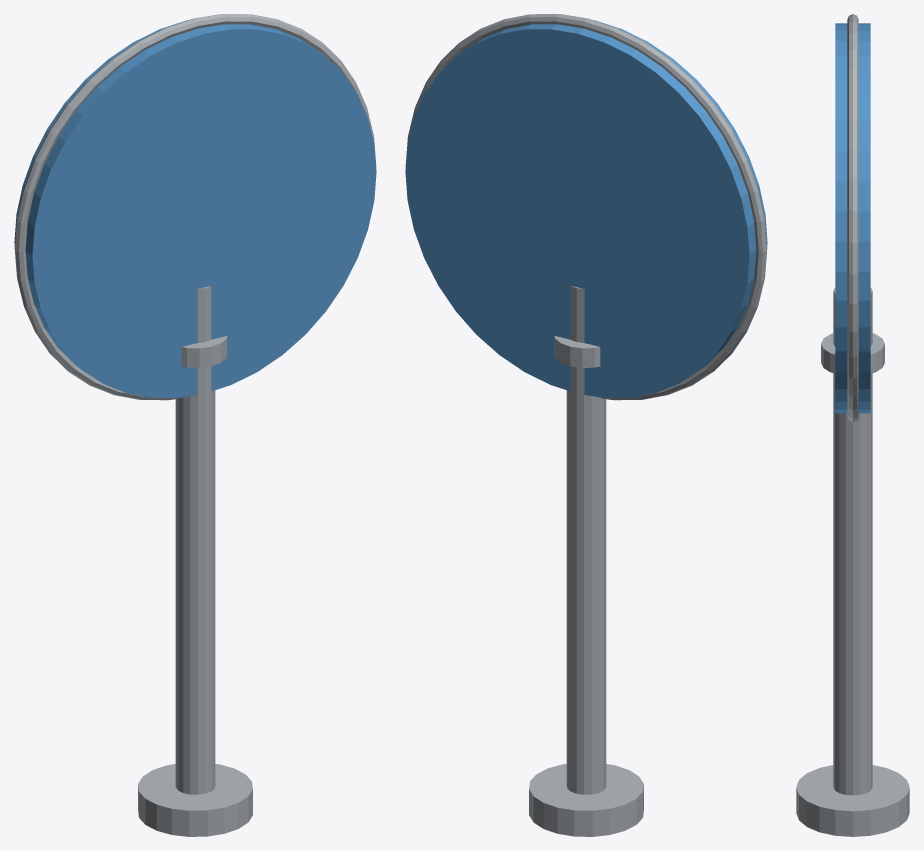
Rendered from state-fair-pin-information-booth.glb.
3 views of the same model, side by side, from view 1: azimuth 30°, elevation 25°; view 2: azimuth 150°, elevation 25°; view 3: azimuth 270°, elevation 25° (orthographic).
Parts seen in each view (by area): view 1: SFPIN_SignDisc, SFPIN_Post, SFPIN_Rim, SFPIN_Base, SFPIN_Collar; view 2: SFPIN_SignDisc, SFPIN_Post, SFPIN_Rim, SFPIN_Base, SFPIN_Collar; view 3: SFPIN_Post, SFPIN_SignDisc, SFPIN_Base, SFPIN_Rim, SFPIN_Collar.
Boxes of the visible parts, x1,y1,x2,y2 form: SFPIN_SignDisc: (14, 20, 376, 397); SFPIN_Post: (175, 286, 215, 794); SFPIN_Rim: (14, 14, 376, 400); SFPIN_Base: (138, 764, 252, 836); SFPIN_Collar: (181, 336, 227, 367); SFPIN_SignDisc: (405, 20, 767, 397); SFPIN_Post: (566, 286, 606, 794); SFPIN_Rim: (405, 14, 767, 400); SFPIN_Base: (529, 764, 643, 836); SFPIN_Collar: (554, 336, 600, 367); SFPIN_Post: (833, 287, 872, 795); SFPIN_SignDisc: (835, 23, 870, 413); SFPIN_Base: (796, 765, 909, 836); SFPIN_Rim: (847, 14, 858, 422); SFPIN_Collar: (821, 333, 884, 373).
Size of the model in its own units: 1.15 by 2.43 by 0.32.
